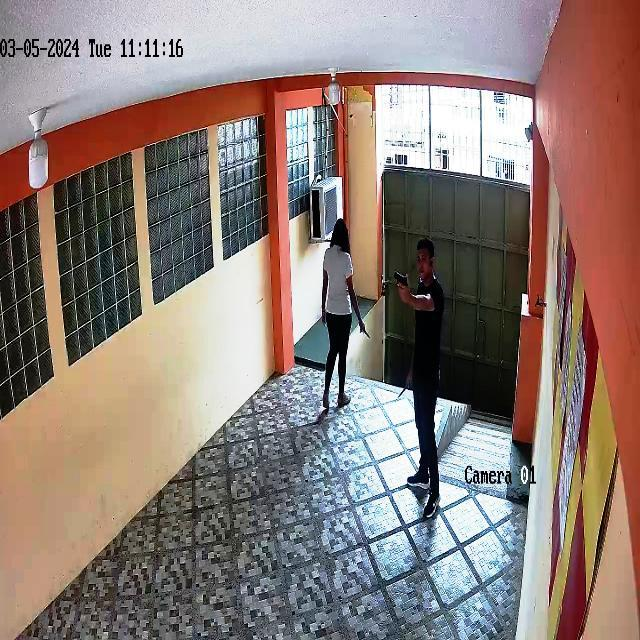Gun: (388, 261, 417, 302)
Knife: (355, 313, 383, 351), (393, 376, 419, 410)
